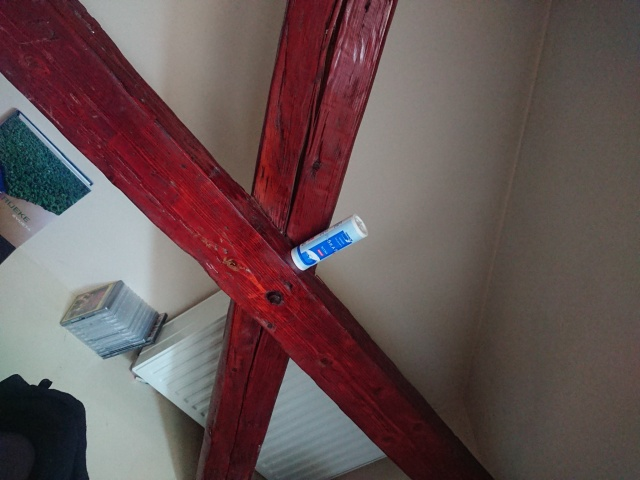Solana Pag Fine Sea Salt 250g: (288, 211, 371, 273)
